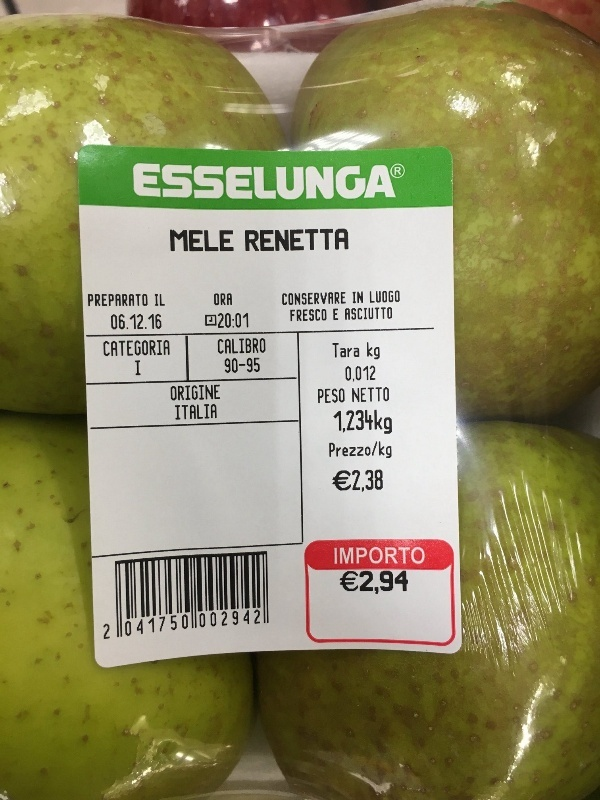text: (145, 163, 160, 200), (161, 163, 176, 200), (177, 163, 192, 200), (193, 163, 208, 200), (209, 163, 224, 200), (225, 163, 240, 200), (241, 163, 256, 200), (257, 163, 272, 200), (273, 163, 288, 200), (289, 163, 304, 200), (305, 163, 320, 200), (321, 163, 336, 200), (337, 163, 352, 200), (353, 163, 368, 200), (369, 163, 384, 200), (113, 610, 128, 641), (129, 610, 144, 641), (145, 610, 160, 641), (161, 610, 176, 641), (177, 610, 192, 641), (193, 610, 208, 641), (209, 610, 224, 641), (225, 610, 240, 641), (241, 610, 256, 641), (385, 163, 397, 200), (133, 163, 144, 200), (337, 469, 352, 496), (353, 469, 368, 496), (353, 570, 368, 596), (369, 570, 384, 596), (385, 570, 400, 596), (369, 469, 383, 496), (337, 410, 352, 435), (353, 410, 368, 435), (369, 410, 384, 435), (257, 229, 272, 252), (273, 229, 288, 252), (289, 229, 304, 252), (305, 229, 320, 252), (321, 229, 336, 252), (177, 230, 192, 252), (193, 230, 208, 252), (209, 230, 224, 252), (337, 545, 352, 567), (353, 545, 368, 567), (369, 545, 384, 567), (385, 545, 400, 567), (401, 545, 416, 567), (340, 570, 352, 596), (113, 339, 128, 358), (129, 339, 144, 358), (145, 339, 160, 358), (337, 441, 352, 460), (353, 441, 368, 460), (369, 441, 384, 460), (337, 229, 349, 252), (225, 338, 240, 355), (241, 338, 256, 355), (225, 357, 240, 374), (241, 357, 256, 374), (177, 385, 192, 402), (193, 385, 208, 402), (177, 403, 192, 420), (193, 403, 208, 420), (245, 229, 256, 252), (104, 610, 112, 641), (113, 314, 128, 330), (129, 314, 144, 330), (145, 314, 160, 330), (225, 313, 240, 329), (353, 365, 368, 381), (337, 343, 352, 358), (321, 389, 336, 404), (353, 387, 368, 402), (369, 387, 384, 402), (369, 342, 380, 362), (289, 292, 304, 306), (305, 292, 320, 306), (321, 292, 336, 306), (353, 307, 368, 321), (369, 307, 384, 321), (401, 570, 409, 596), (225, 230, 234, 252), (97, 294, 112, 307), (113, 294, 128, 307), (129, 294, 144, 307), (385, 291, 400, 304), (305, 309, 320, 322), (209, 385, 220, 402), (370, 291, 384, 304), (290, 309, 304, 322), (417, 545, 425, 567), (385, 410, 392, 435), (103, 339, 112, 358), (161, 339, 170, 358), (257, 338, 266, 355), (135, 360, 144, 376), (209, 403, 217, 420), (329, 441, 336, 460), (170, 230, 176, 252), (214, 293, 224, 306), (353, 291, 363, 304), (241, 313, 249, 329), (337, 292, 346, 306), (331, 410, 336, 435), (257, 610, 261, 641), (337, 389, 345, 404), (385, 441, 391, 460), (345, 365, 352, 381), (369, 365, 376, 381), (332, 469, 336, 496), (353, 343, 360, 358), (88, 294, 96, 307), (225, 293, 233, 306), (218, 338, 224, 355), (345, 307, 352, 321), (385, 307, 392, 321), (218, 313, 224, 329), (171, 385, 176, 402), (282, 292, 288, 306), (321, 309, 327, 322), (332, 343, 336, 358), (385, 387, 389, 402), (155, 295, 160, 306), (161, 295, 166, 306), (257, 357, 260, 374), (395, 166, 400, 176), (366, 342, 368, 362), (145, 294, 148, 307), (333, 309, 336, 321), (318, 389, 320, 404), (335, 545, 336, 567), (175, 403, 176, 420), (111, 314, 112, 330), (161, 314, 162, 330), (337, 309, 338, 321)
